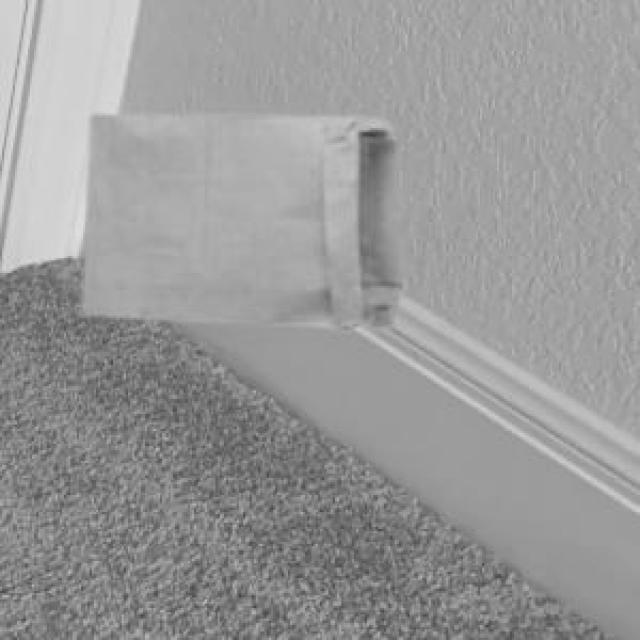paper: (79, 111, 397, 326)
